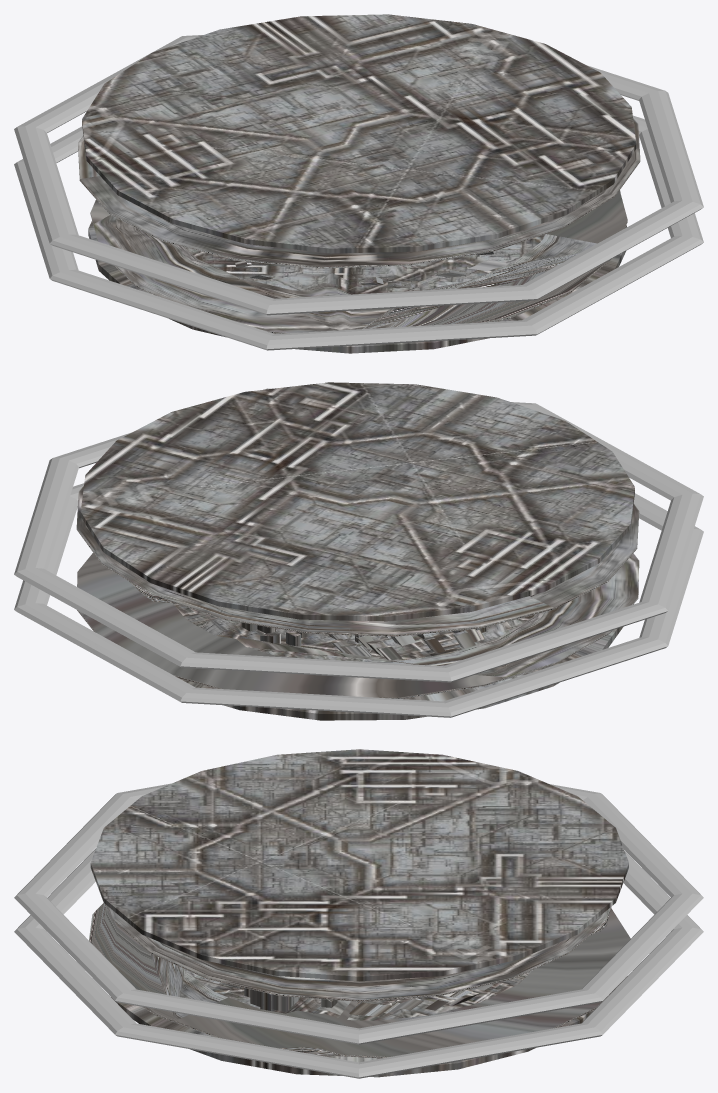
The model's file is MotherShip.fbx.
3 views of the same model, one above another, from view 1: azimuth 30°, elevation 25°; view 2: azimuth 150°, elevation 25°; view 3: azimuth 270°, elevation 25° (orthographic). The views are drawn at different scales.
Visible parts, largest first — view 1: polySurface4, polySurface6; view 2: polySurface4, polySurface6; view 3: polySurface4, polySurface6.
Part boxes in pixels (x1,y1,x2,y2): polySurface4: (78, 14, 640, 353); polySurface6: (14, 21, 703, 350); polySurface4: (76, 382, 639, 720); polySurface6: (14, 388, 703, 717); polySurface4: (89, 749, 630, 1077); polySurface6: (14, 783, 703, 1078).
Size of the model in its own units: 44.69 by 7.43 by 44.69.
2 materials, 1 textured.
